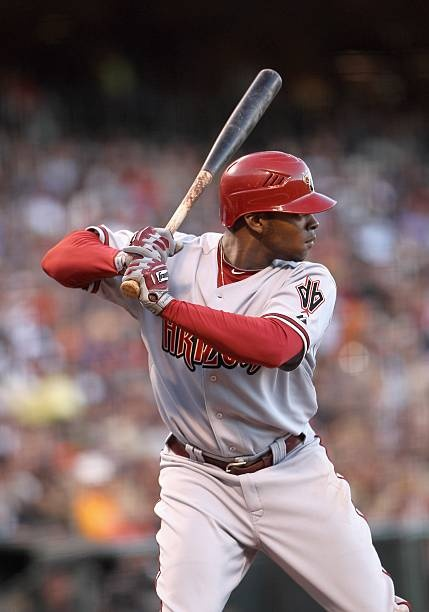bita: (181, 66, 290, 188), (122, 194, 190, 302)
